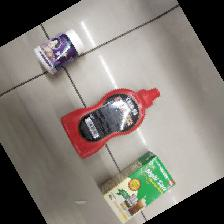Chinsu: (59, 85, 160, 159)
NSPN_Hop: (103, 153, 175, 224)
Xylitol_BTS: (33, 30, 83, 78)
